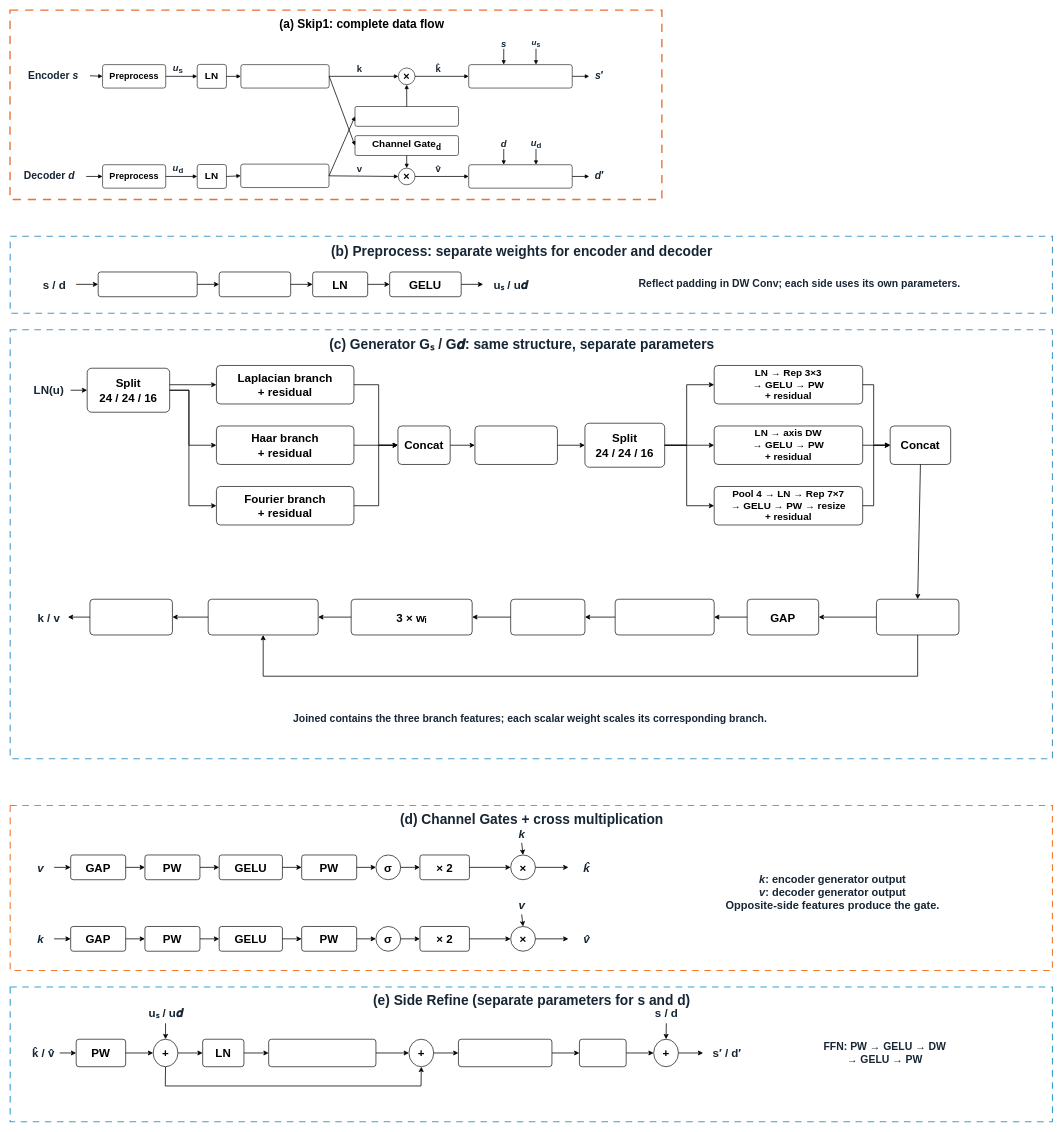
Some shapes in this 1063 by 1132 pixel diagram are drawn without their labels. The shapes that lost their labels are listed below. From the top down, each one's box as (x1, y1, x2, y2) in pixels, then its label:
(240, 64, 329, 88): Generator G s
(468, 64, 572, 88): Side Refine s
(354, 106, 459, 126): Channel Gate s
(240, 164, 329, 188): Generator G d
(468, 164, 572, 188): Side Refine d
(98, 271, 197, 297): DW Conv 3×3
(219, 271, 291, 297): PW Conv 1×1
(474, 425, 557, 465): PW → LN
(89, 599, 172, 635): Concat → PW
(208, 599, 318, 635): Branchᵢ × 3wᵢ
(510, 599, 585, 635): Softmax
(615, 599, 714, 635): PW → GELU → PW
(876, 599, 959, 635): Joined
(268, 1039, 376, 1067): FFN
(458, 1039, 552, 1067): DW-PW LN & GELU
(579, 1039, 626, 1067): × γ
